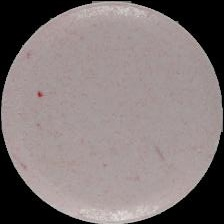0781-5555: (0, 0, 224, 224)
